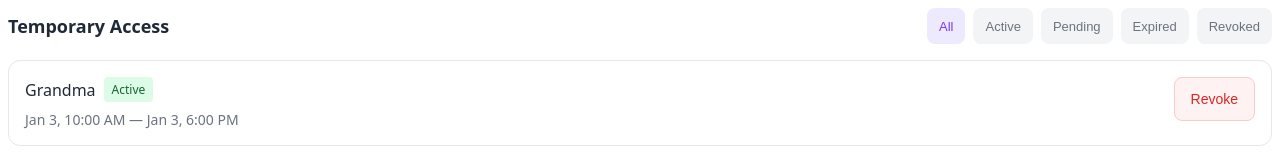
Scenario: TemporaryAccessList › Filtering › shows filtered empty state
The image size is (1280, 163).
Click the button with test id "filter-expired" at (1155, 26), box [1121,8,1189,44]
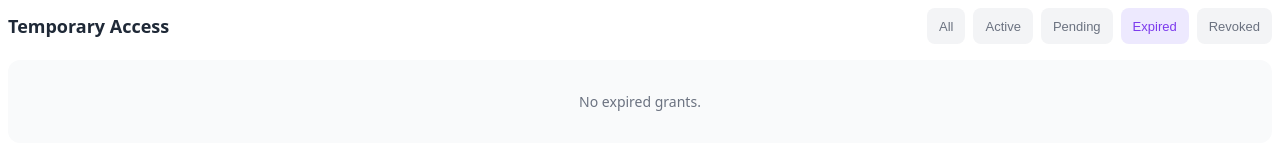
Check: the text "No expired grants." is shown, box [579,92,701,111]
